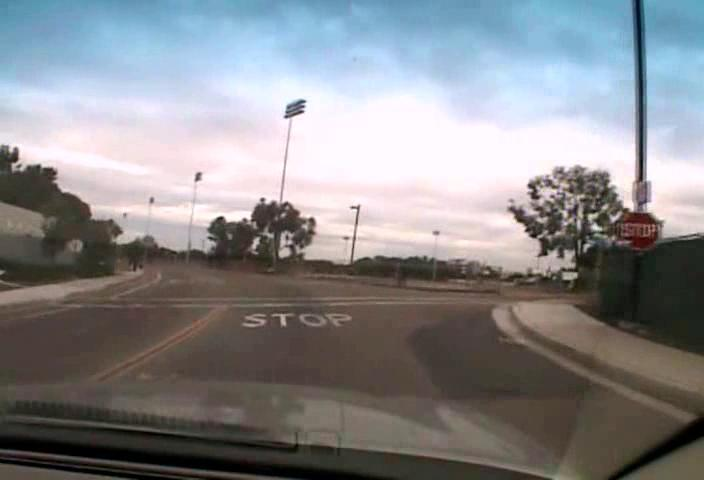stop: (617, 210, 660, 249)
